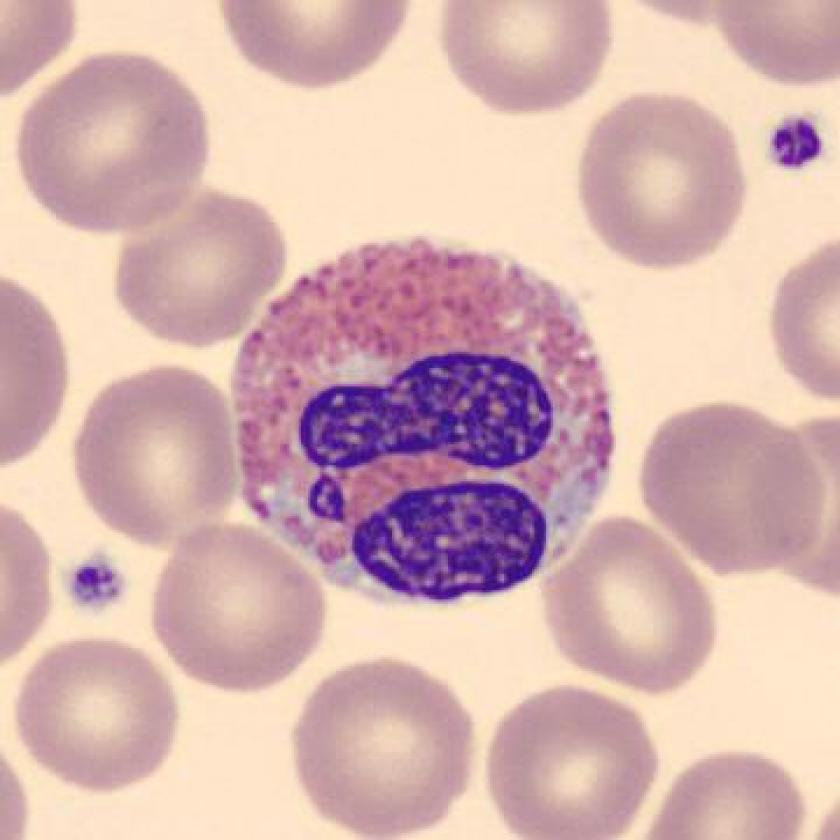eosinophil: (220, 221, 631, 612)
